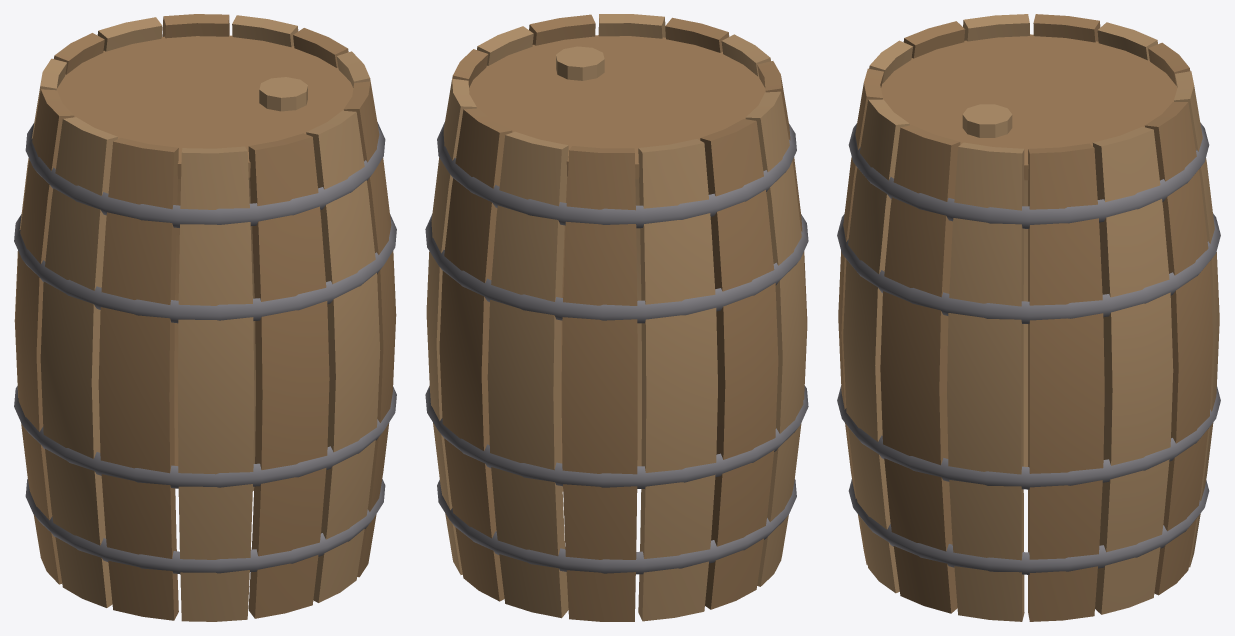
File: barrel.glb
3 renders of one model, left to right at view 1: azimuth 30°, elevation 25°; view 2: azimuth 150°, elevation 25°; view 3: azimuth 270°, elevation 25°, orthographic.
Parts seen in each view (by area): view 1: barrel; view 2: barrel; view 3: barrel.
Boxes of the visible parts, x1=… form: barrel: x1=14, y1=14, x2=396, y2=621; barrel: x1=425, y1=14, x2=808, y2=621; barrel: x1=837, y1=14, x2=1220, y2=621.
Bounding box in the file's own units: 0.4627 × 0.6229 × 0.4627.
